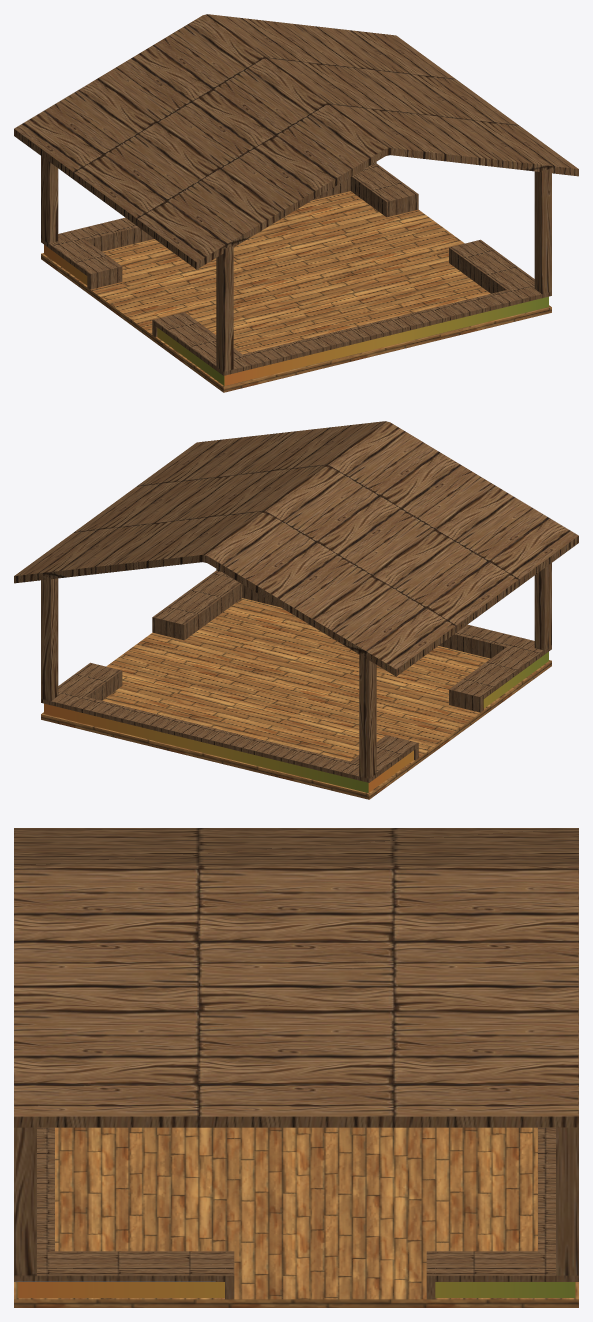
Rendered from new_str.fbx.
3 renders of one model, top to bottom at view 1: azimuth 30°, elevation 25°; view 2: azimuth 150°, elevation 25°; view 3: azimuth 270°, elevation 25°, orthographic. The views are drawn at different scales.
Parts seen in each view (by area): view 1: Cube:001; view 2: Cube:001; view 3: Cube:001.
Boxes of the visible parts, box(x1,y1,x2,y2) form: Cube:001: box(14, 14, 578, 392); Cube:001: box(14, 421, 578, 799); Cube:001: box(14, 828, 578, 1307).
Bounding box in the file's own units: 1284 × 656 × 1063.
1 material, 1 textured.
